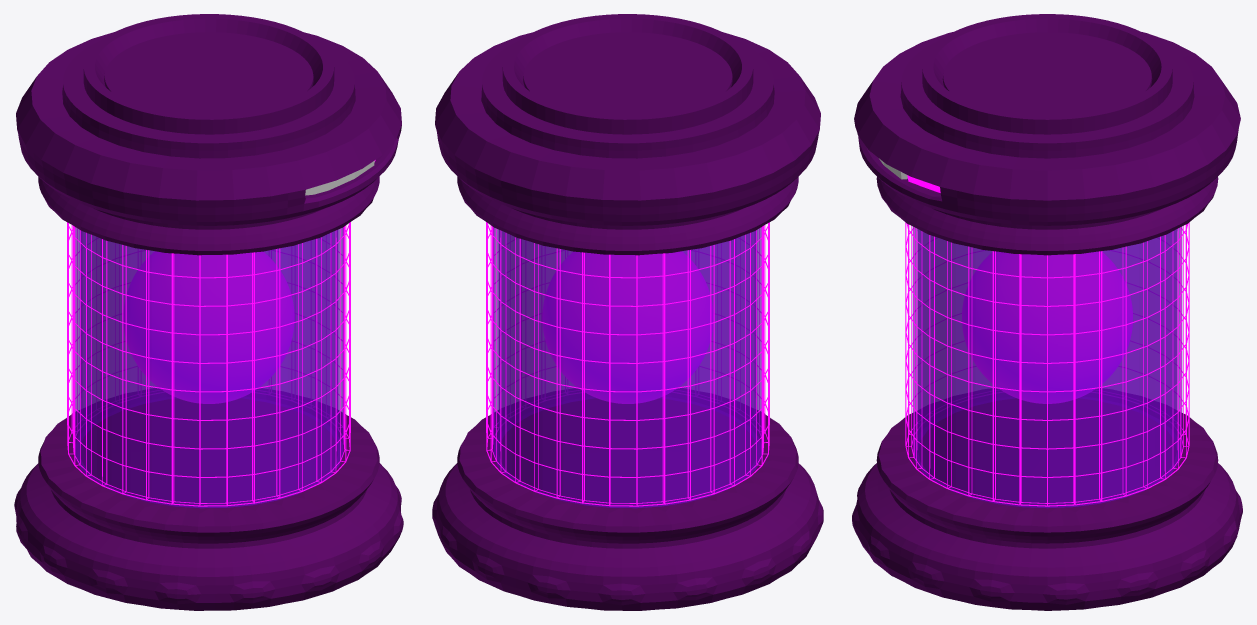
The picture shows the model from 3 angles, left to right: view 1: azimuth 30°, elevation 25°; view 2: azimuth 150°, elevation 25°; view 3: azimuth 270°, elevation 25°; orthographic projection.
Visible parts, largest first — view 1: 円柱.002, 円柱.001, 球, 円柱; view 2: 円柱.002, 円柱.001, 球, 円柱; view 3: 円柱.002, 円柱.001, 球, 円柱.
Boxes of the visible parts, x1,y1,x2,y2 form: 円柱.002: (14,14,403,610); 円柱.001: (75,227,343,508); 球: (123,251,294,403); 円柱: (67,222,350,506); 円柱.002: (432,14,823,610); 円柱.001: (493,227,761,508); 球: (542,251,713,403); 円柱: (486,222,769,506); 円柱.002: (852,14,1242,610); 円柱.001: (912,227,1182,508); 球: (962,251,1132,403); 円柱: (905,222,1189,506).
Size of the model in its own units: 276 by 371 by 276.
